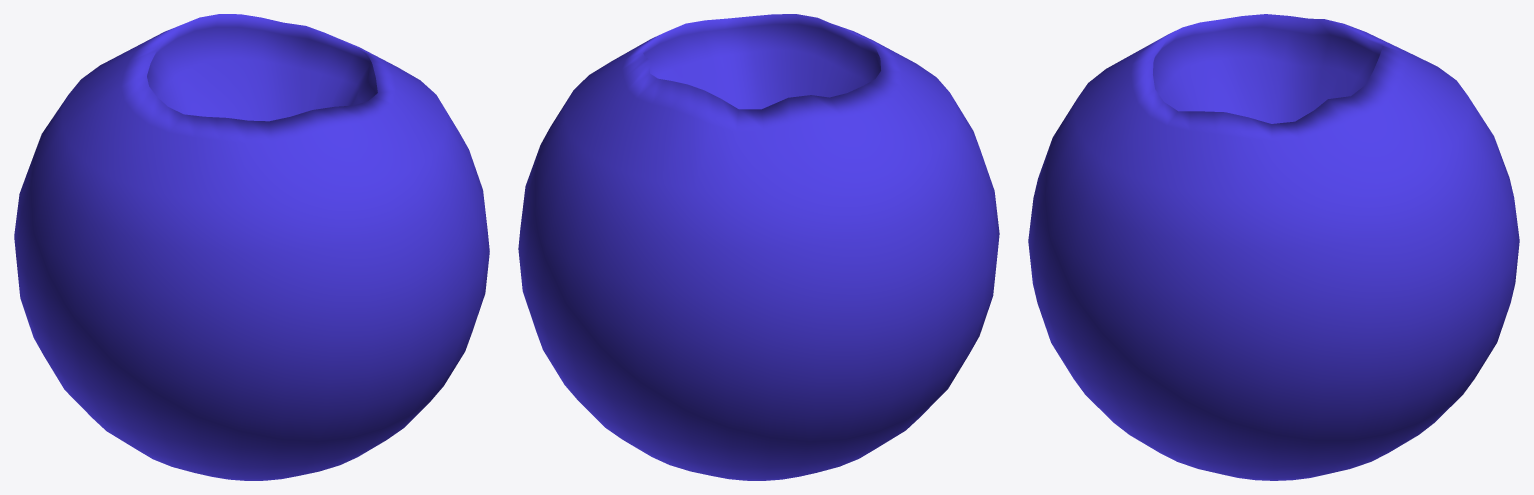
Rendered from berry.fbx.
3 renders of one model, left to right at view 1: azimuth 30°, elevation 25°; view 2: azimuth 150°, elevation 25°; view 3: azimuth 270°, elevation 25°, orthographic.
Parts seen in each view (by area): view 1: Sphere; view 2: Sphere; view 3: Sphere.
Boxes of the visible parts, x1=… form: Sphere: x1=14, y1=14, x2=489, y2=480; Sphere: x1=518, y1=14, x2=999, y2=480; Sphere: x1=1028, y1=14, x2=1519, y2=480.
Bounding box in the file's own units: 31.46 × 29.46 × 32.14.
